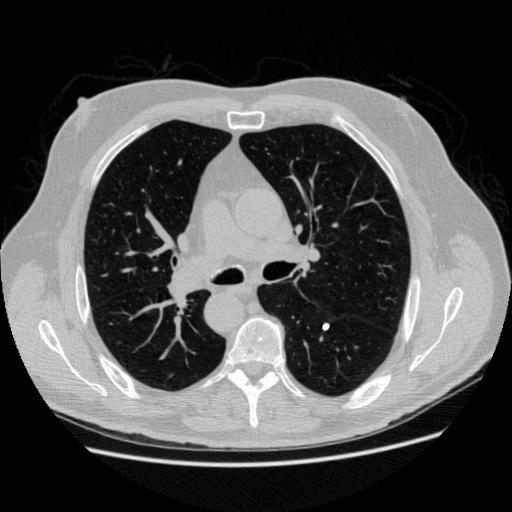nodule: (322, 321, 334, 333)
